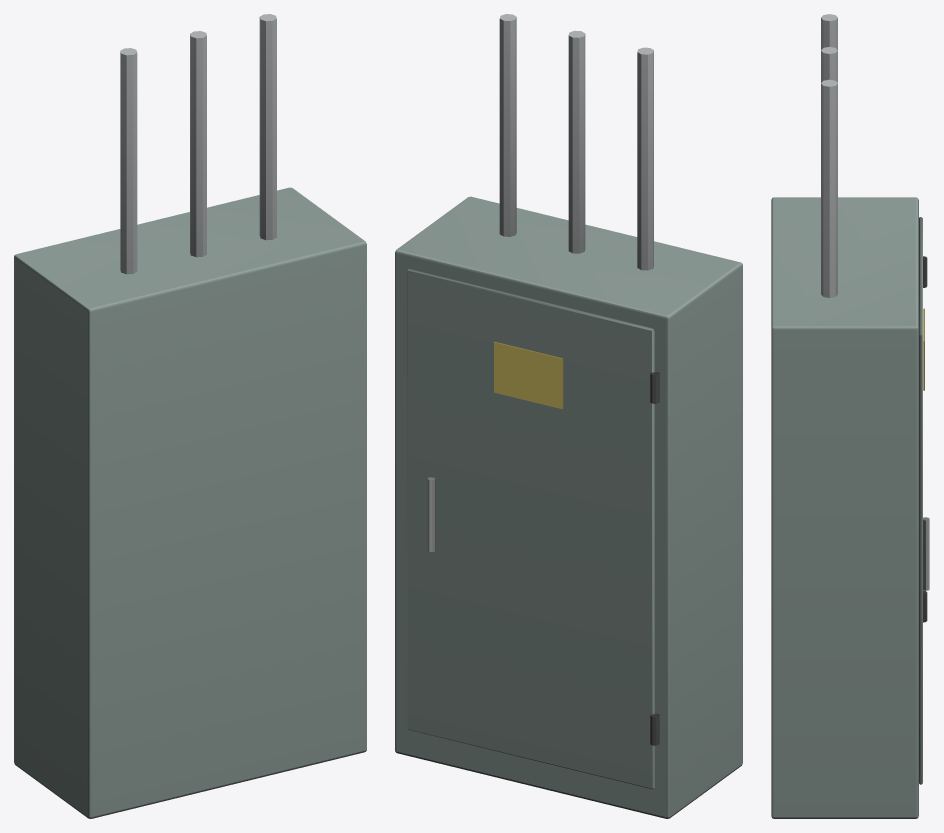
File: switch_cabinet.glb
3 renders of one model, left to right at view 1: azimuth 30°, elevation 25°; view 2: azimuth 150°, elevation 25°; view 3: azimuth 270°, elevation 25°, orthographic. The views are drawn at different scales.
Visible parts, largest first — view 1: static; view 2: static; view 3: static.
Boxes of the visible parts, box(x1,y1,x2,y2) form: static: box(14, 14, 366, 818); static: box(395, 14, 742, 818); static: box(771, 14, 929, 818).
Bounding box in the file's own units: 0.8 × 2 × 0.408.
